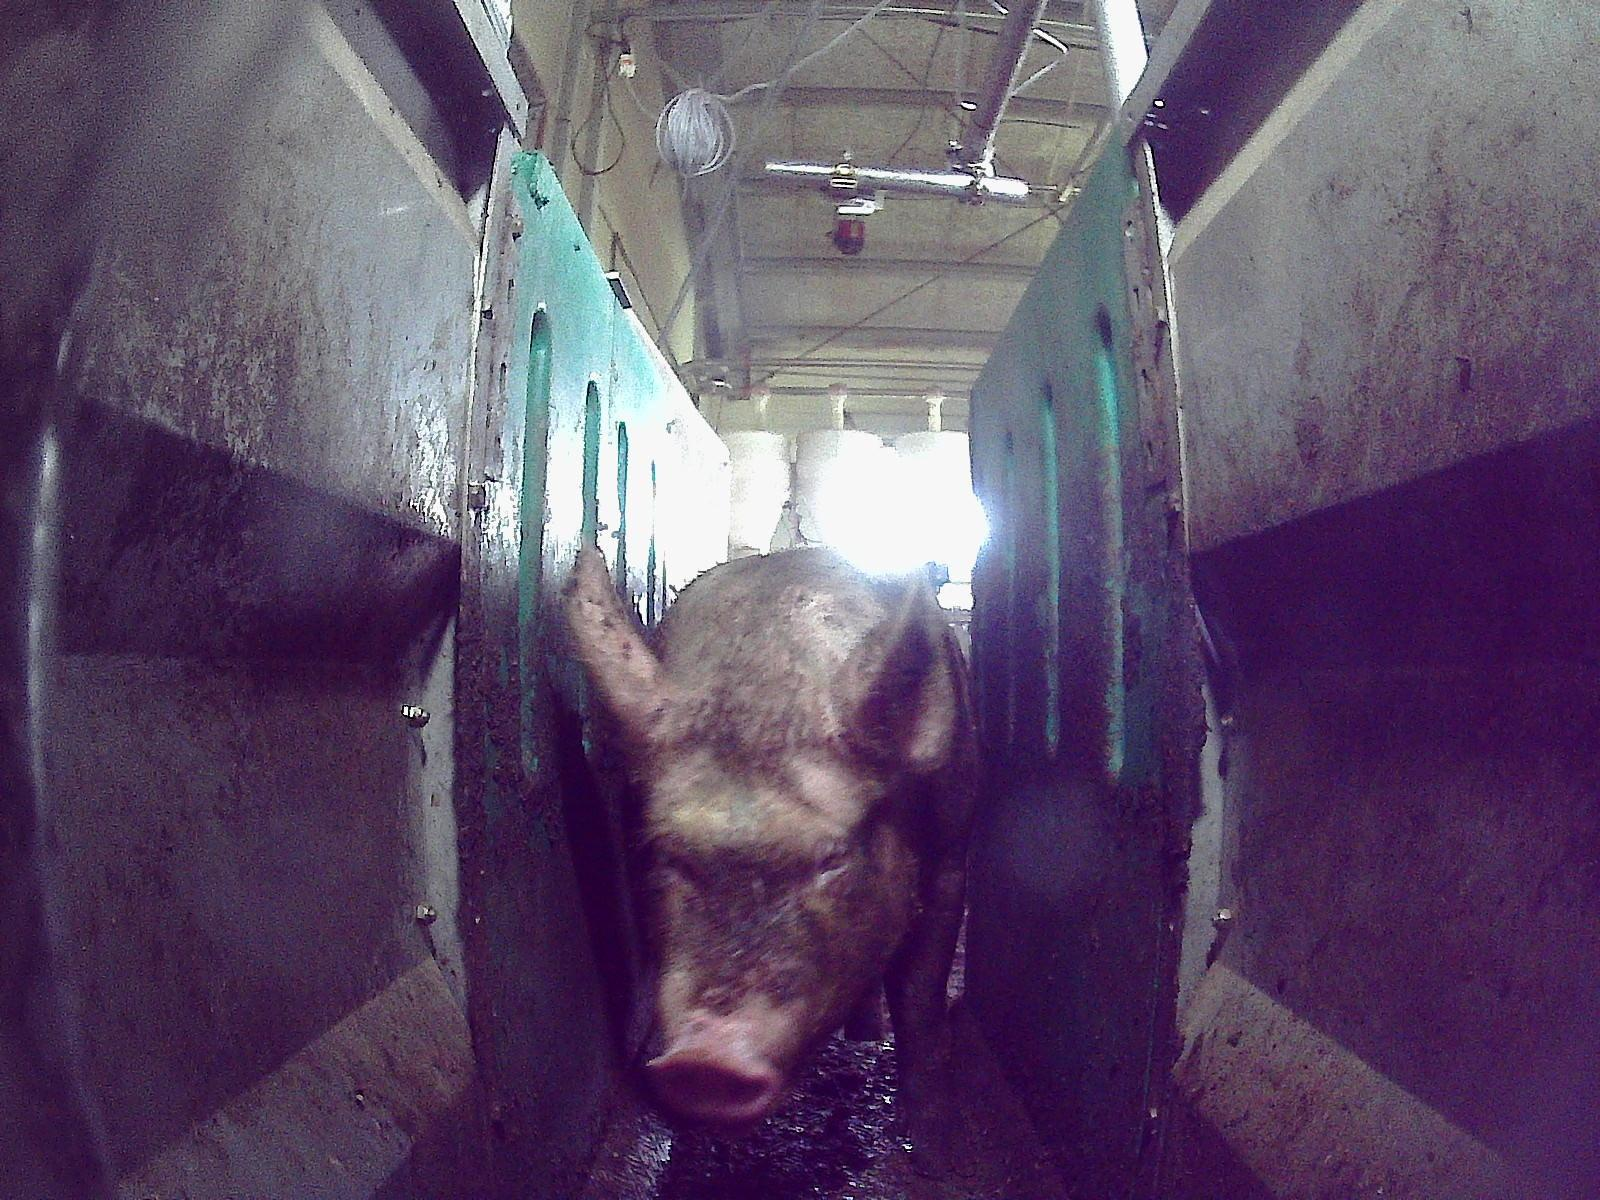Face: (609, 624, 915, 1130)
